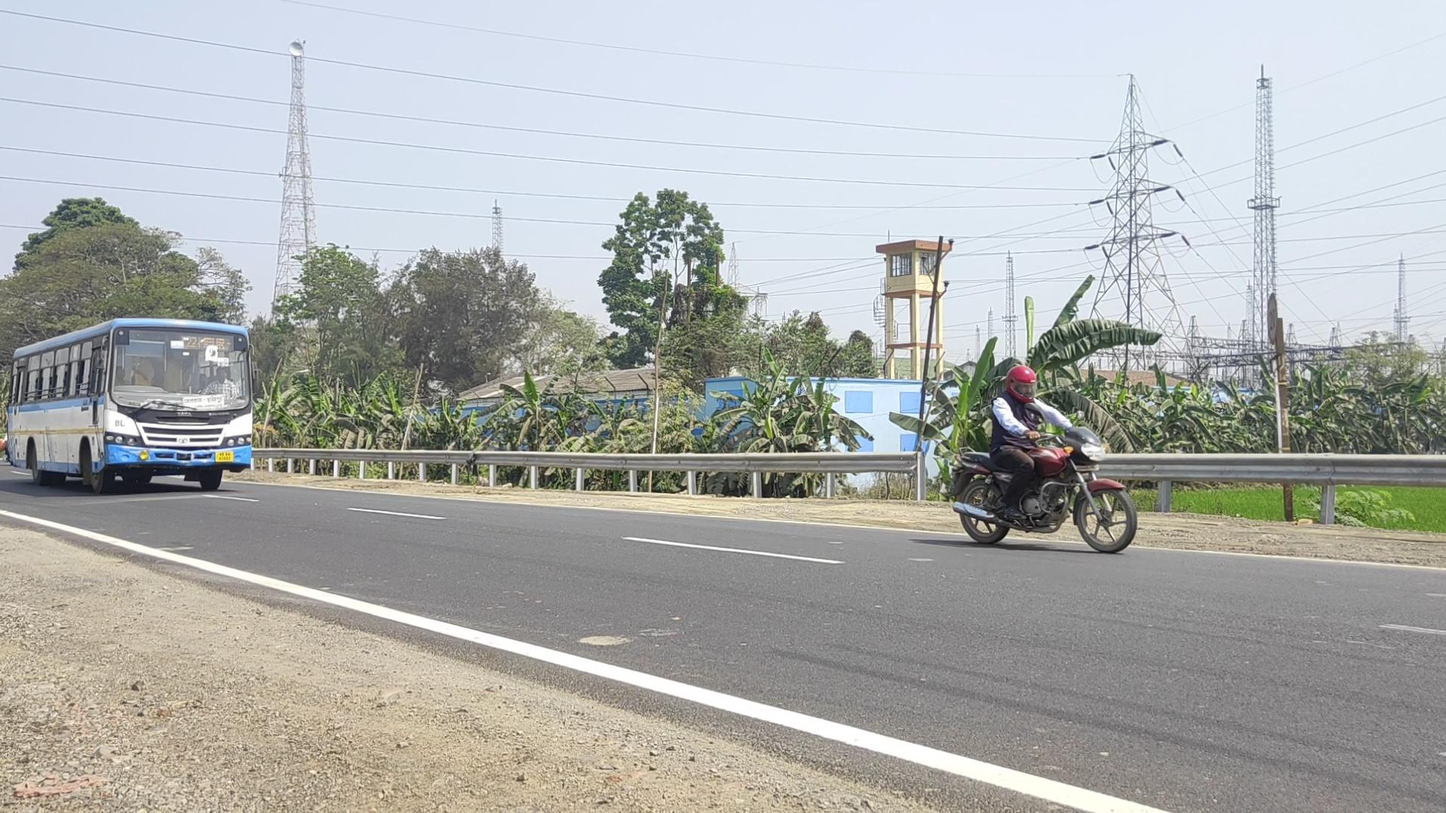Bus: (6, 318, 254, 495)
bike: (951, 365, 1137, 553)
